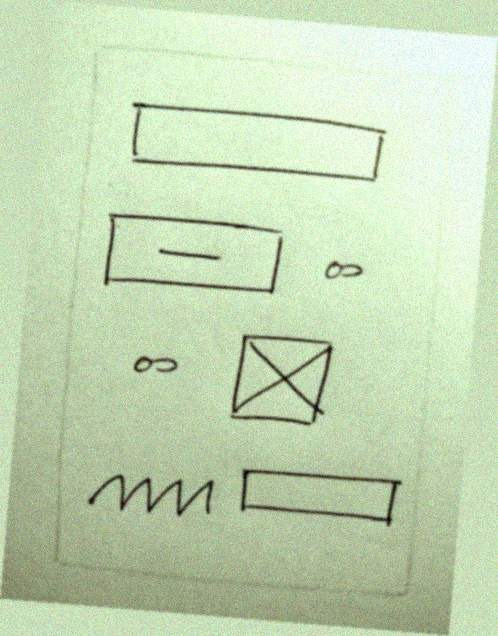button: (94, 205, 289, 302)
image: (219, 322, 334, 431)
switch: (124, 340, 189, 386), (313, 248, 371, 292)
text: (82, 459, 222, 526)
text_input: (119, 93, 394, 194), (234, 462, 409, 533)
